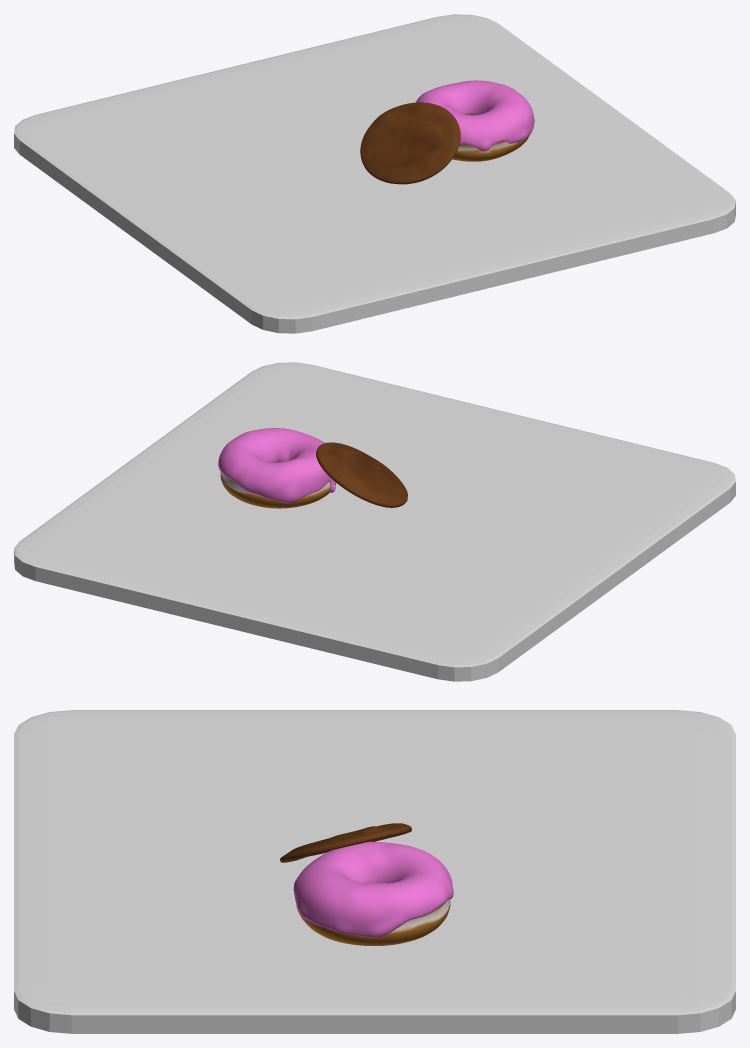
Rendered from donut.glb.
The picture shows the model from 3 angles, top to bottom: view 1: azimuth 30°, elevation 25°; view 2: azimuth 150°, elevation 25°; view 3: azimuth 270°, elevation 25°; orthographic projection. The views are drawn at different scales.
Parts seen in each view (by area): view 1: Table, Cookie, icing, Donut; view 2: Table, icing, Cookie, Donut; view 3: Table, icing, Donut, Cookie.
Part boxes in pixels (box(x1,y1,x2,y2)): Table: box(14, 14, 735, 333); Cookie: box(360, 102, 460, 184); icing: box(416, 80, 534, 151); Donut: box(452, 114, 529, 161); Table: box(14, 362, 735, 681); icing: box(218, 428, 335, 503); Cookie: box(316, 442, 407, 507); Donut: box(220, 472, 336, 508); Table: box(14, 710, 735, 1033); icing: box(293, 841, 453, 937); Donut: box(296, 899, 450, 945); Cookie: box(280, 823, 411, 862).
Bounding box in the file's own units: 0.5 × 0.0648 × 0.5.
4 materials, 2 textured.
